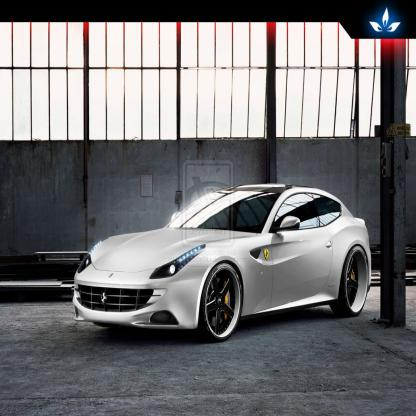car: (71, 177, 374, 348)
